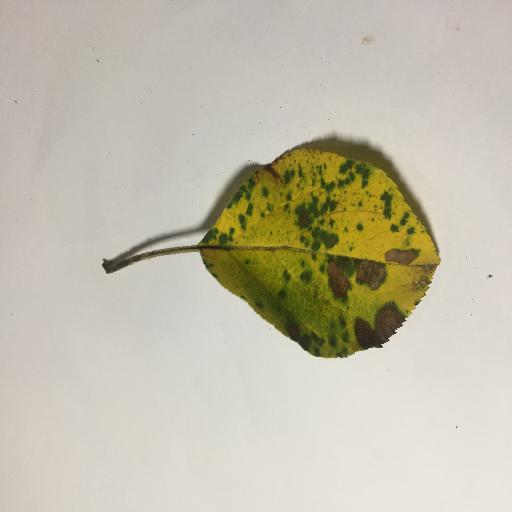Brown_Spot: (389, 251, 437, 271), (285, 325, 316, 349), (377, 307, 402, 336), (328, 264, 348, 299), (353, 263, 386, 284), (350, 317, 375, 344), (252, 166, 287, 179)
